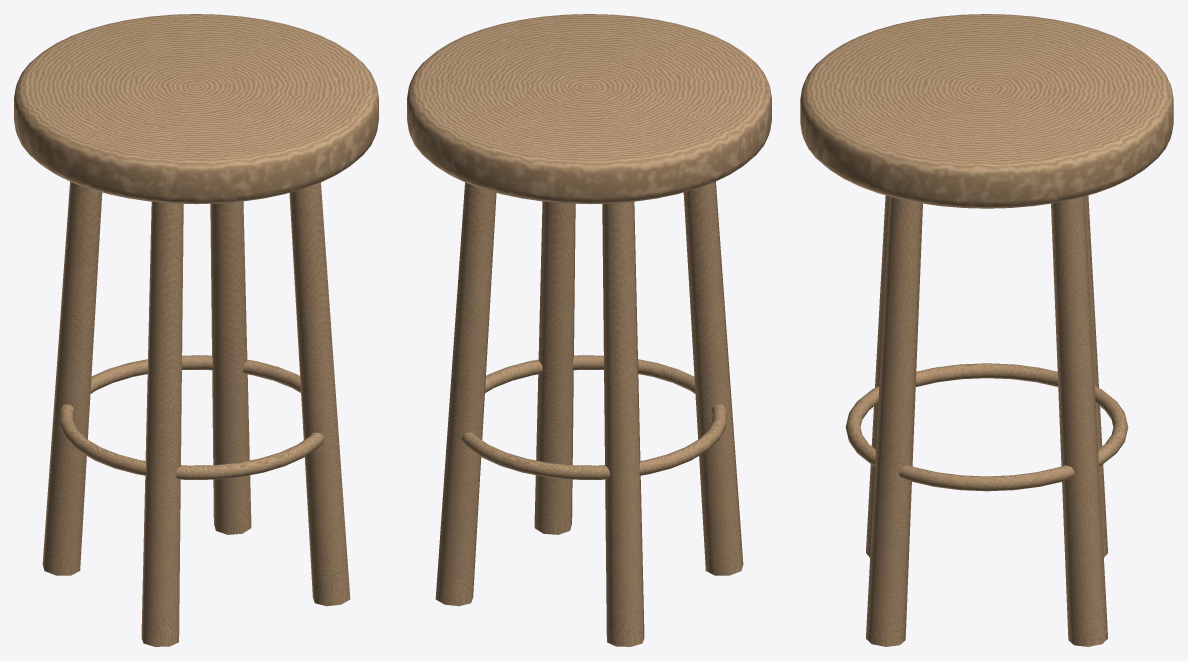
File: stool.glb
The picture shows the model from 3 angles, left to right: view 1: azimuth 30°, elevation 25°; view 2: azimuth 150°, elevation 25°; view 3: azimuth 270°, elevation 25°; orthographic projection. The views are drawn at different scales.
Visible parts, largest first — view 1: stool; view 2: stool; view 3: stool.
Part boxes in pixels (x1,y1,x2,y2): stool: (14,14,378,646); stool: (407,14,771,646); stool: (800,14,1173,646).
Bounding box in the file's own units: 6 × 9.02 × 6.
1 material, 1 textured.
